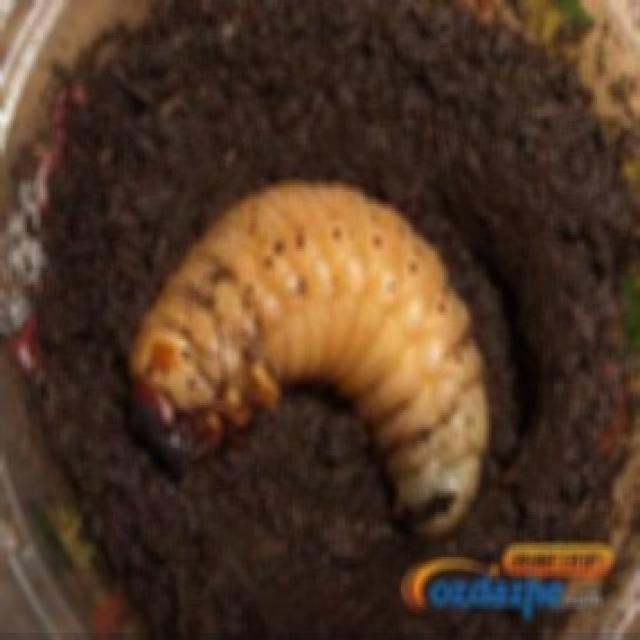grub: (115, 166, 502, 543)
